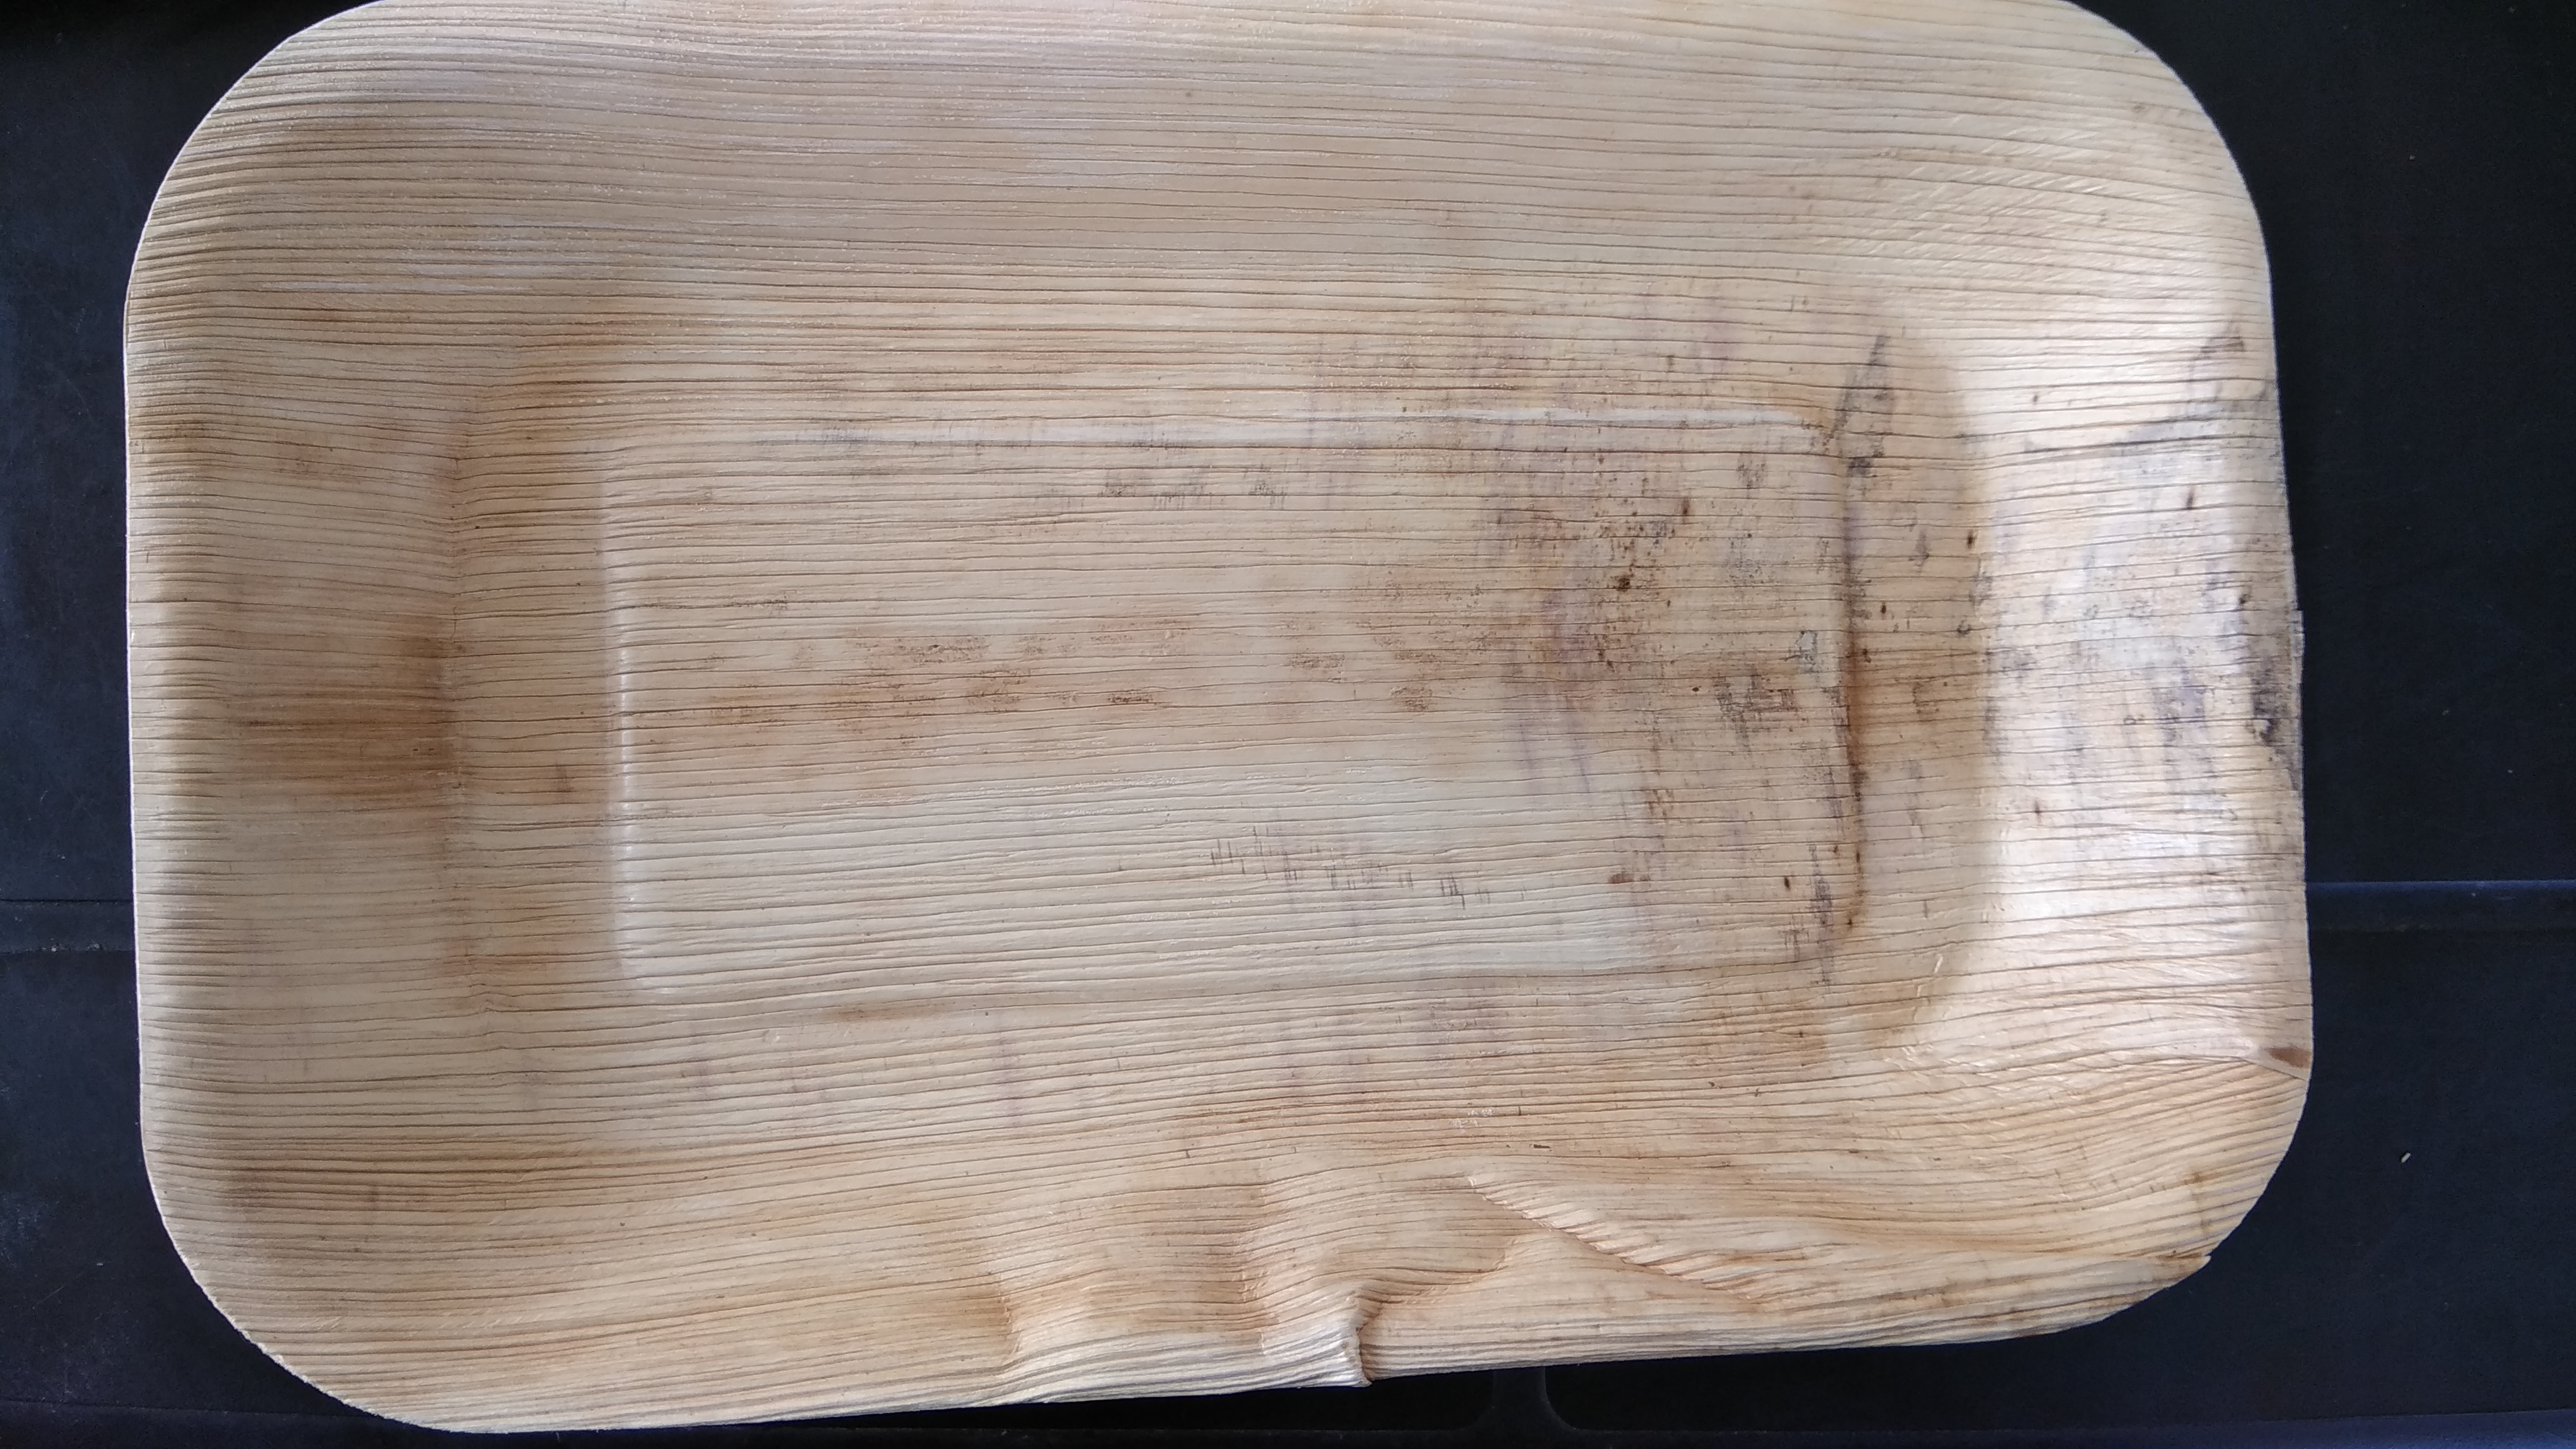areca plate: (120, 16, 2334, 1357)
